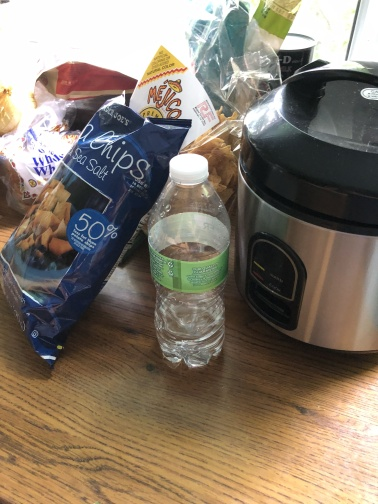bottle: (144, 151, 234, 370)
